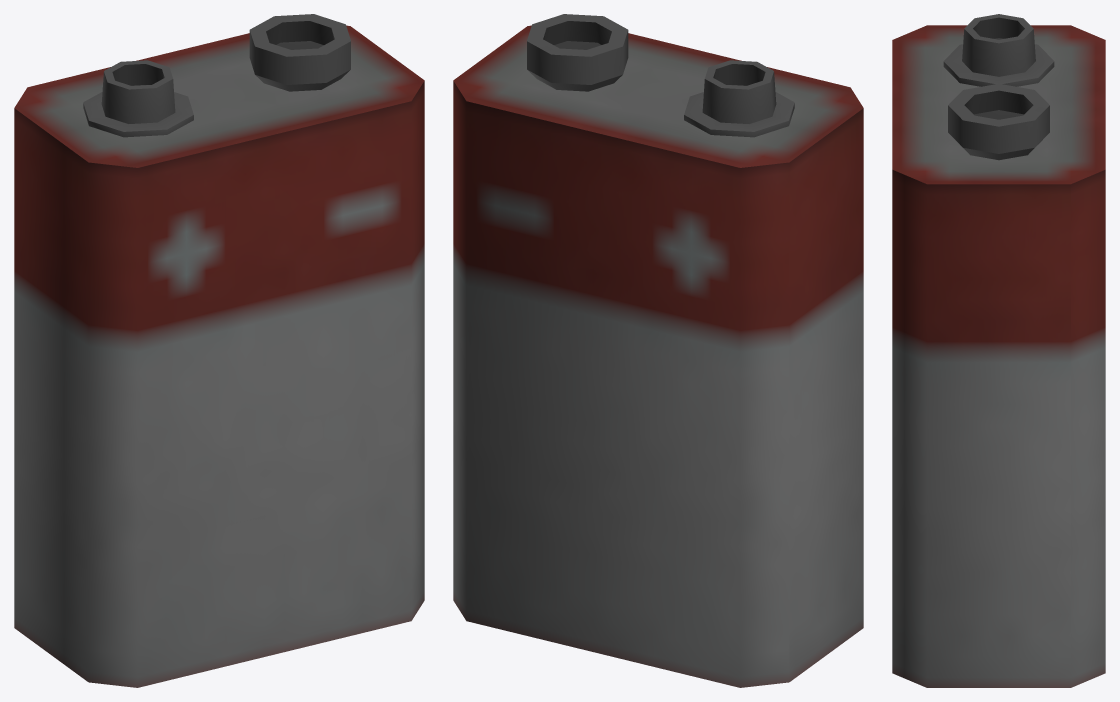
The model's file is battery_mp_3_1.dae.
The picture shows the model from 3 angles, left to right: view 1: azimuth 30°, elevation 25°; view 2: azimuth 150°, elevation 25°; view 3: azimuth 270°, elevation 25°; orthographic projection. The views are drawn at different scales.
Visible parts, largest first — view 1: battery_mp_3_1; view 2: battery_mp_3_1; view 3: battery_mp_3_1.
Boxes of the visible parts, x1=… form: battery_mp_3_1: x1=14, y1=14, x2=424, y2=687; battery_mp_3_1: x1=453, y1=14, x2=863, y2=687; battery_mp_3_1: x1=892, y1=14, x2=1105, y2=687.
Size of the model in its own units: 0.0648 by 0.0368 by 0.103.
1 material, 1 textured.
